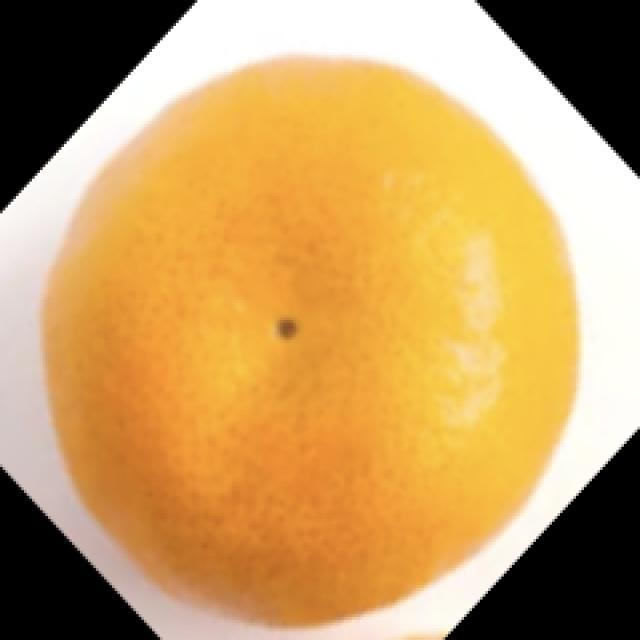Orange: (39, 51, 581, 630)
